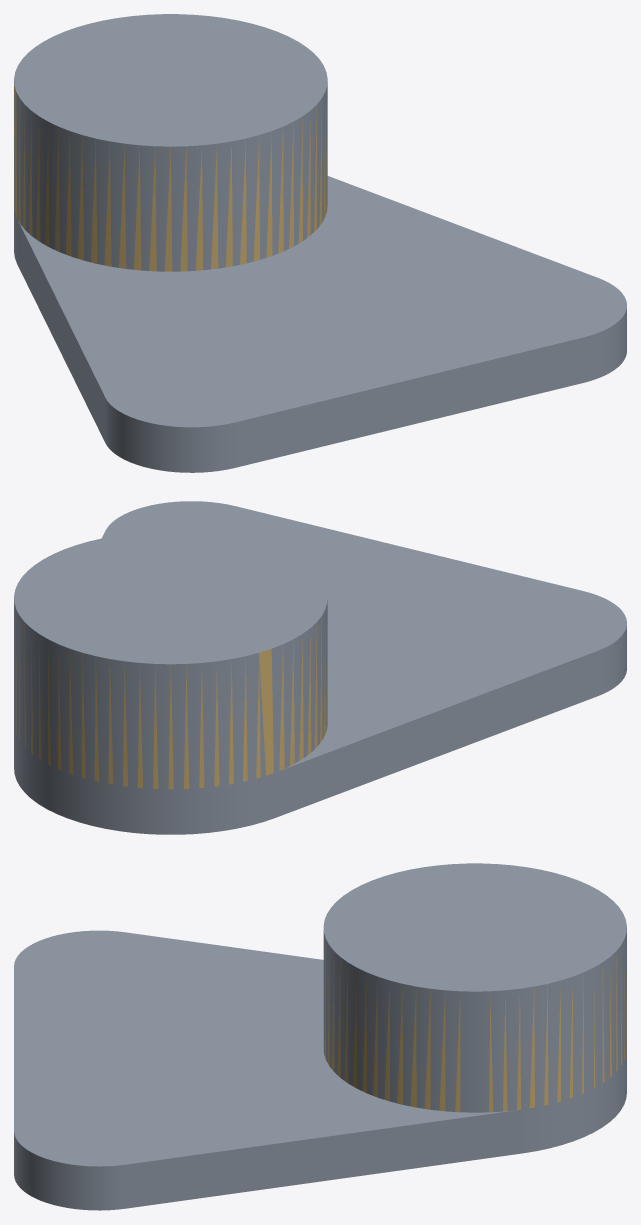
Rendered from step_03.glb.
3 renders of one model, top to bottom at view 1: azimuth 30°, elevation 25°; view 2: azimuth 150°, elevation 25°; view 3: azimuth 270°, elevation 25°, orthographic. The views are drawn at different scales.
Parts seen in each view (by area): view 1: part__boss bracket, added__boss bracket; view 2: part__boss bracket, added__boss bracket; view 3: part__boss bracket, added__boss bracket.
Part boxes in pixels (x1=…): part__boss bracket: x1=14, y1=14, x2=626, y2=472; added__boss bracket: x1=14, y1=86, x2=327, y2=271; part__boss bracket: x1=14, y1=501, x2=626, y2=834; added__boss bracket: x1=16, y1=617, x2=327, y2=789; part__boss bracket: x1=14, y1=863, x2=626, y2=1210; added__boss bracket: x1=323, y1=940, x2=626, y2=1112.
Bounding box in the file's own units: 91.99 × 30 × 101.
